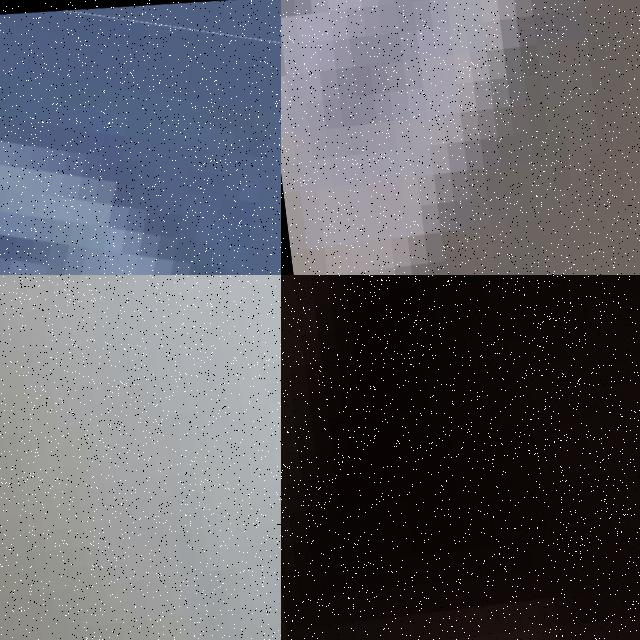drone: (0, 0, 281, 275)
